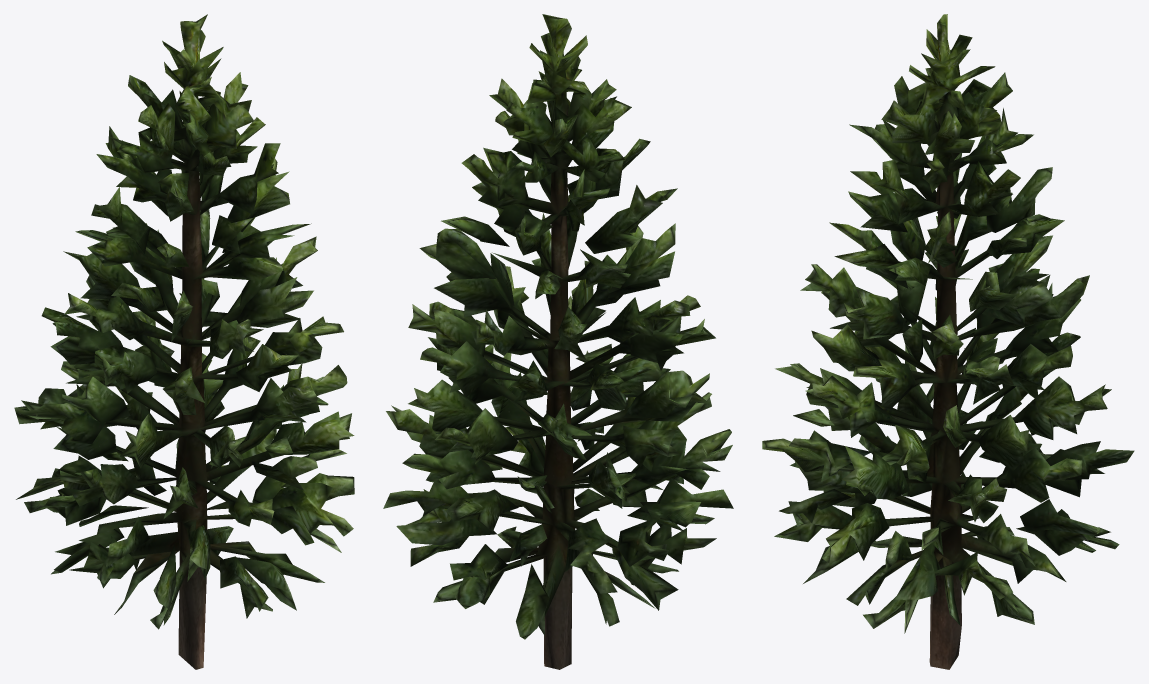
The model's file is stonepine_tripo.glb.
3 views of the same model, side by side, from view 1: azimuth 30°, elevation 25°; view 2: azimuth 150°, elevation 25°; view 3: azimuth 270°, elevation 25° (orthographic).
Parts seen in each view (by area): view 1: tripo_node_faac1145-a3c6-4015-ba0d-f6f9809d37ef; view 2: tripo_node_faac1145-a3c6-4015-ba0d-f6f9809d37ef; view 3: tripo_node_faac1145-a3c6-4015-ba0d-f6f9809d37ef.
Part boxes in pixels (x1,y1,x2,y2): tripo_node_faac1145-a3c6-4015-ba0d-f6f9809d37ef: (14, 14, 354, 669); tripo_node_faac1145-a3c6-4015-ba0d-f6f9809d37ef: (383, 14, 733, 669); tripo_node_faac1145-a3c6-4015-ba0d-f6f9809d37ef: (762, 14, 1134, 669).
Bounding box in the file's own units: 0.4892 × 1 × 0.5219.
1 material, 1 textured.
